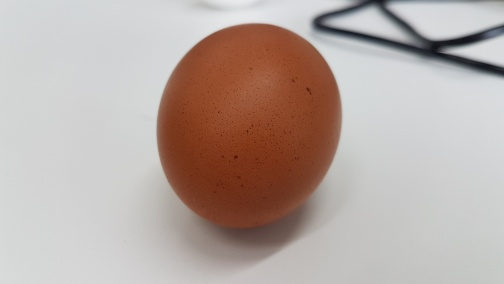egg: (152, 20, 345, 233)
